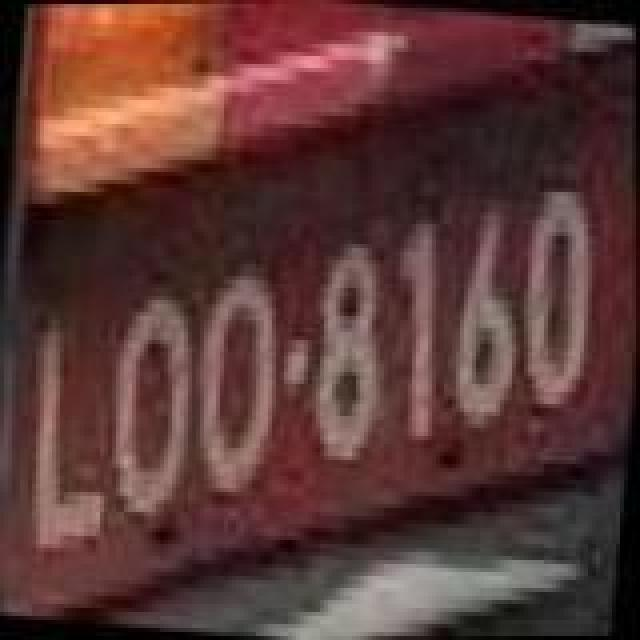1: (378, 212, 458, 448)
6: (438, 198, 534, 438)
8: (300, 238, 400, 474)
L: (16, 316, 128, 556)
O: (96, 290, 208, 530), (186, 268, 294, 504), (508, 182, 608, 418)
